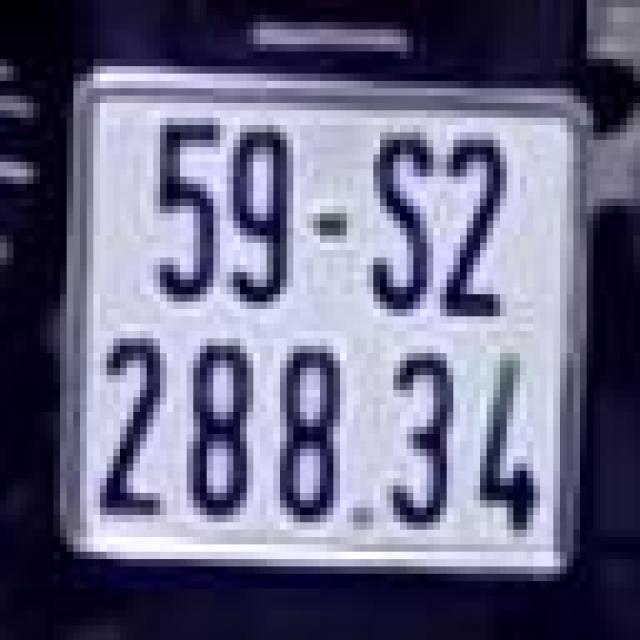2: (86, 316, 166, 530), (440, 118, 513, 324)
3: (377, 334, 463, 540)
4: (466, 342, 546, 548)
5: (147, 107, 220, 305)
8: (183, 327, 257, 526), (270, 338, 350, 522)
9: (220, 114, 300, 320)
S: (356, 121, 436, 320)
